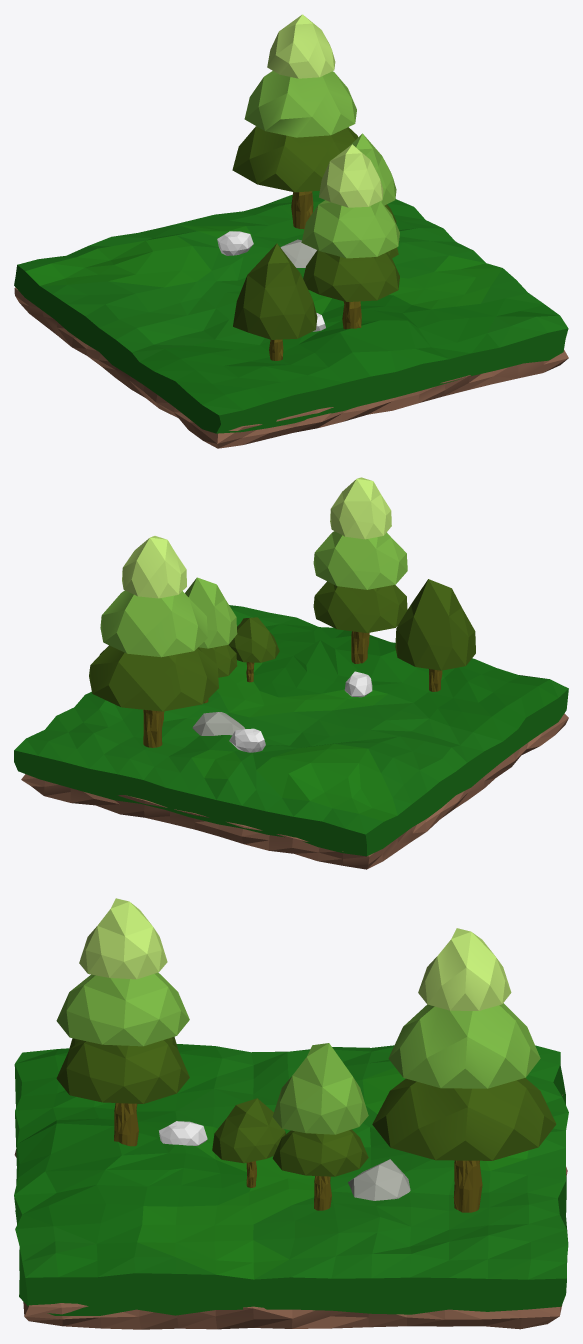
3 views of the same model, one above another, from view 1: azimuth 30°, elevation 25°; view 2: azimuth 150°, elevation 25°; view 3: azimuth 270°, elevation 25° (orthographic). The views are drawn at different scales.
Parts seen in each view (by area): view 1: grass, ground, Icosphere.013, Icosphere.002, Icosphere.012, Icosphere.004, Icosphere.005, Icosphere.014, Icosphere.003, Icosphere.010, stone, Cylinder.003 (+1 smaller); view 2: grass, ground, Icosphere.012, Icosphere.013, Icosphere.002, Icosphere.004, Icosphere.005, Icosphere.014, Icosphere.003, Icosphere.010, Icosphere.001, Icosphere.007 (+5 smaller); view 3: grass, Icosphere.012, Icosphere.013, ground, Icosphere.004, Icosphere.005, Icosphere.010, Icosphere.014, Icosphere.003, Icosphere.009, Icosphere.001, Icosphere.007 (+4 smaller).
Boxes of the visible parts, left/top/right/bottom form: grass: left=14, top=190, right=568, bottom=433; ground: left=14, top=287, right=568, bottom=448; Icosphere.013: left=244, top=71, right=356, bottom=137; Icosphere.002: left=233, top=243, right=317, bottom=339; Icosphere.012: left=232, top=126, right=358, bottom=192; Icosphere.004: left=301, top=200, right=399, bottom=258; Icosphere.005: left=303, top=250, right=399, bottom=301; Icosphere.014: left=267, top=14, right=335, bottom=78; Icosphere.003: left=319, top=144, right=383, bottom=207; Icosphere.010: left=349, top=133, right=396, bottom=205; stone: left=217, top=231, right=253, bottom=255; Cylinder.003: left=291, top=191, right=313, bottom=229; grass: left=14, top=605, right=568, bottom=856; ground: left=21, top=713, right=568, bottom=869; Icosphere.012: left=89, top=645, right=218, bottom=711; Icosphere.013: left=100, top=590, right=207, bottom=657; Icosphere.002: left=395, top=579, right=475, bottom=670; Icosphere.004: left=313, top=531, right=407, bottom=589; Icosphere.005: left=313, top=581, right=407, bottom=632; Icosphere.014: left=122, top=536, right=186, bottom=598; Icosphere.003: left=330, top=477, right=391, bottom=539; Icosphere.010: left=185, top=577, right=237, bottom=648; Icosphere.001: left=228, top=617, right=279, bottom=662; Icosphere.007: left=192, top=712, right=244, bottom=735; grass: left=14, top=1044, right=568, bottom=1315; Icosphere.012: left=372, top=1078, right=556, bottom=1160; Icosphere.013: left=388, top=1003, right=540, bottom=1088; ground: left=14, top=1095, right=567, bottom=1329; Icosphere.004: left=56, top=972, right=189, bottom=1046; Icosphere.005: left=56, top=1039, right=189, bottom=1103; Icosphere.010: left=272, top=1043, right=368, bottom=1134; Icosphere.014: left=418, top=928, right=511, bottom=1010; Icosphere.003: left=79, top=898, right=167, bottom=979; Icosphere.009: left=272, top=1129, right=368, bottom=1176; Icosphere.001: left=212, top=1098, right=285, bottom=1163; Icosphere.007: left=348, top=1159, right=410, bottom=1200.
Size of the model in its own units: 1018 by 682 by 1016.
